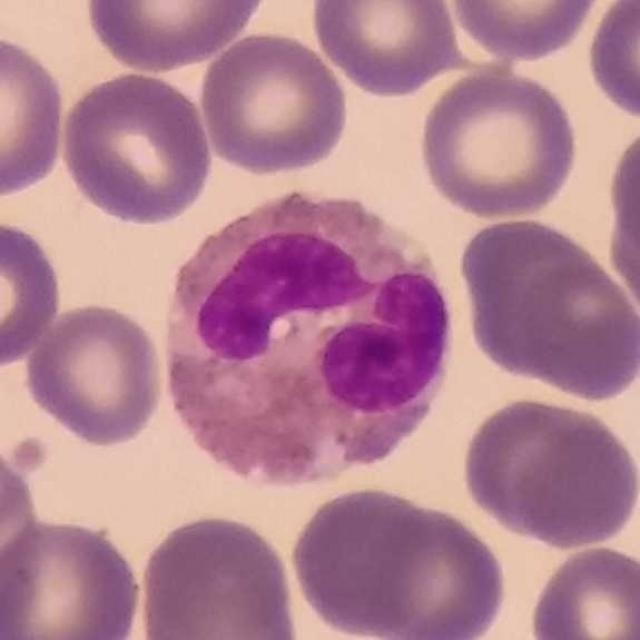Eosinophil: (148, 190, 462, 491)
RBC: (453, 211, 640, 403), (456, 393, 640, 551), (415, 62, 582, 222), (57, 68, 216, 229), (342, 492, 512, 640), (287, 482, 446, 639), (196, 27, 351, 178), (21, 298, 168, 450), (134, 509, 302, 639), (0, 512, 148, 640), (307, 0, 463, 99), (80, 0, 271, 73), (0, 28, 70, 205), (525, 540, 640, 640), (0, 213, 67, 374), (444, 0, 607, 63), (0, 433, 45, 620), (582, 1, 640, 124), (602, 116, 640, 300)
